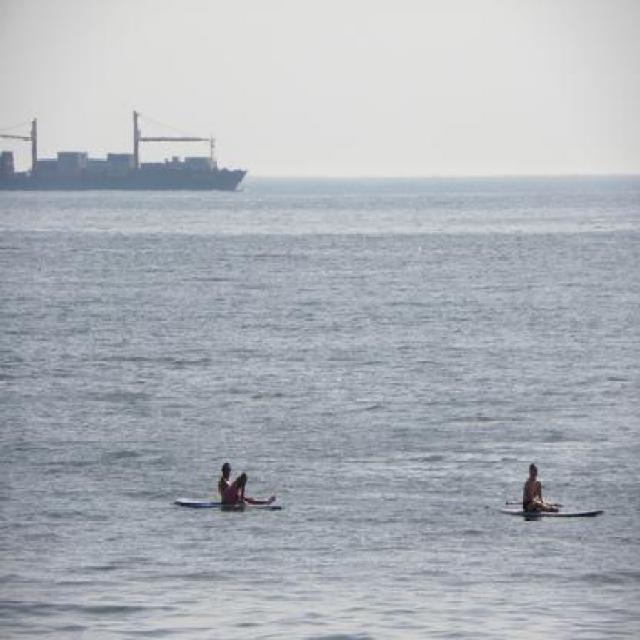ship: (0, 114, 252, 197)
